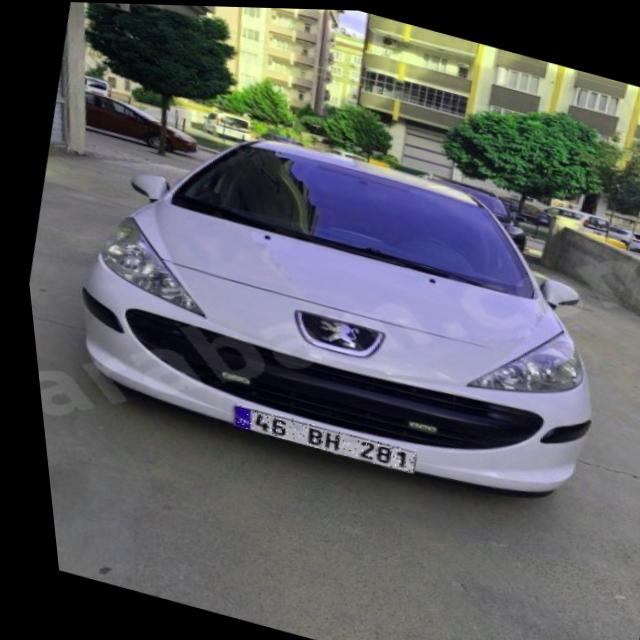license_plate: (222, 402, 409, 472)
